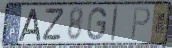8: (66, 6, 85, 43)
A: (17, 8, 42, 42)
G: (86, 6, 108, 42)
I: (110, 6, 119, 43)
P: (130, 6, 152, 41)
Z: (40, 7, 66, 42)
